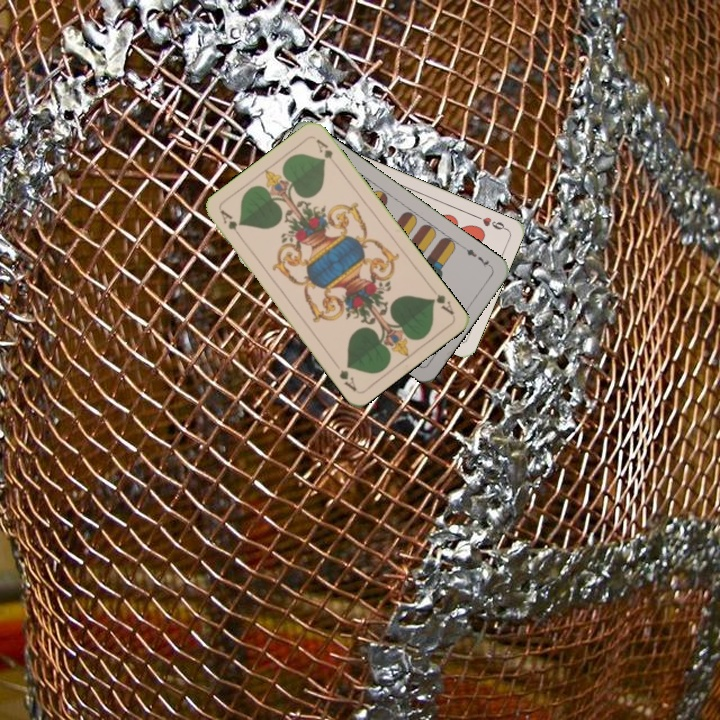E7: (459, 242, 494, 270)
GA: (216, 206, 245, 242), (426, 290, 456, 317)
H9: (470, 211, 509, 233)
